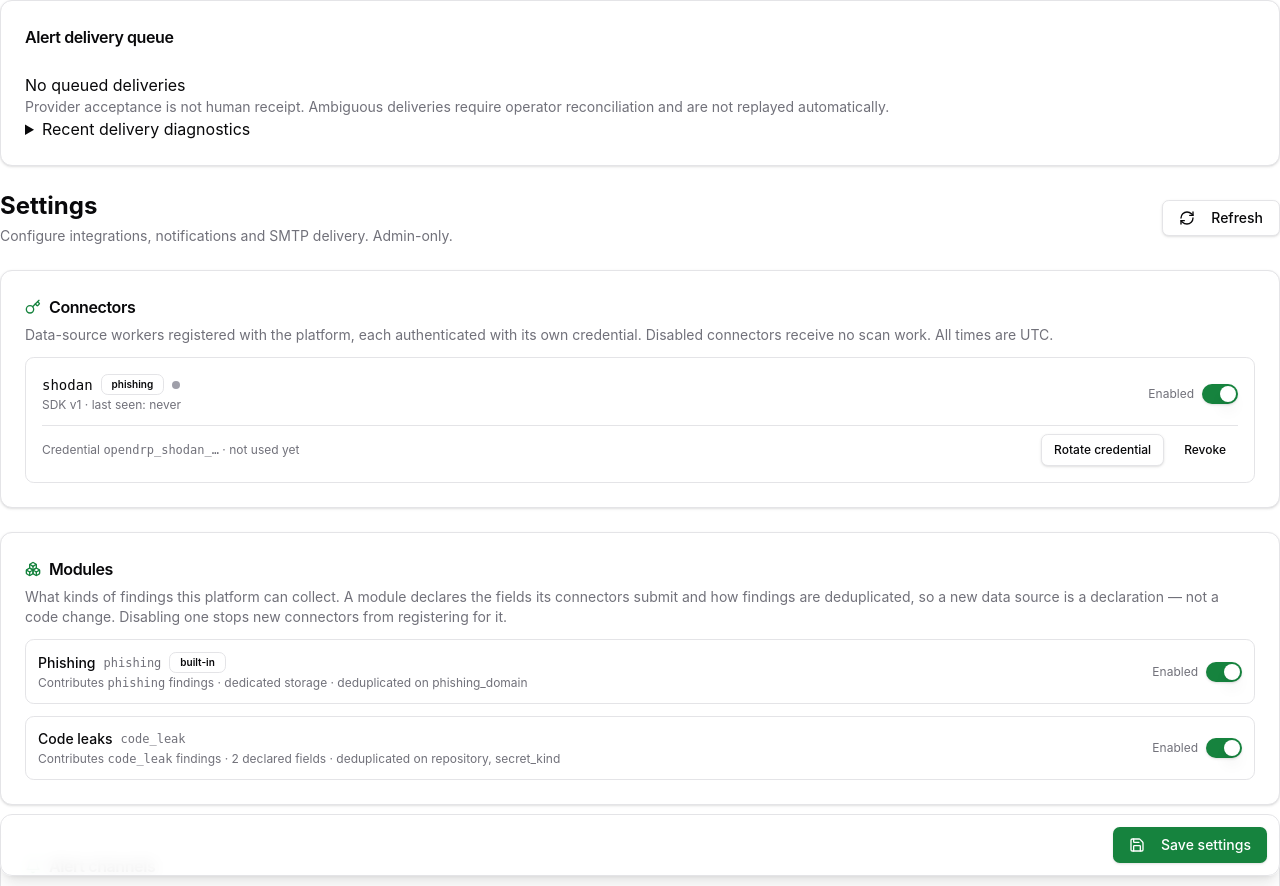
Test: SettingsPage › asks before revoking a connector credential, then keeps the connector
Click the button "Revoke" at (1205, 450), box [1172, 434, 1238, 466]
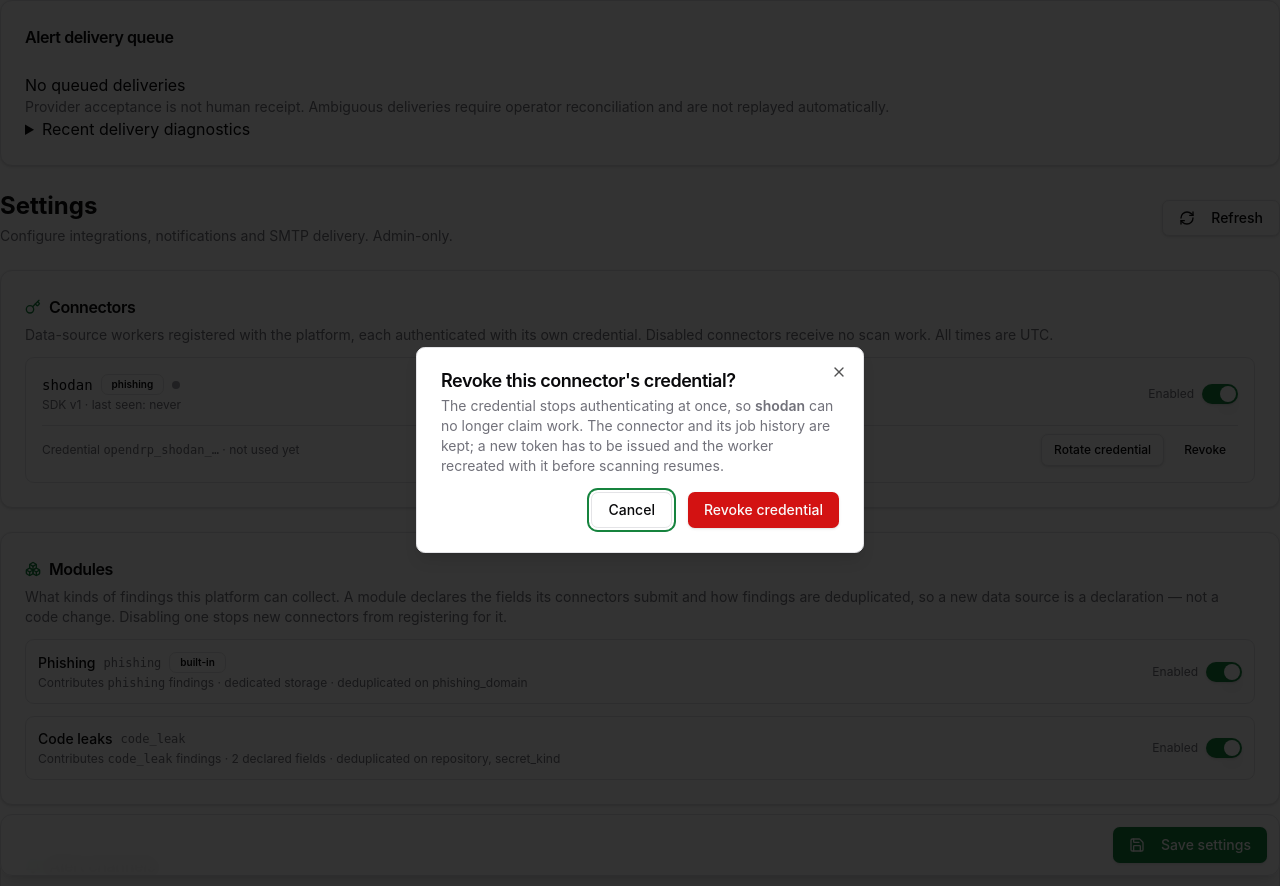
Now the text "can no longer claim work" is shown, box [441, 397, 833, 474]
Click the button "Revoke credential" at (763, 510), box [688, 492, 839, 528]
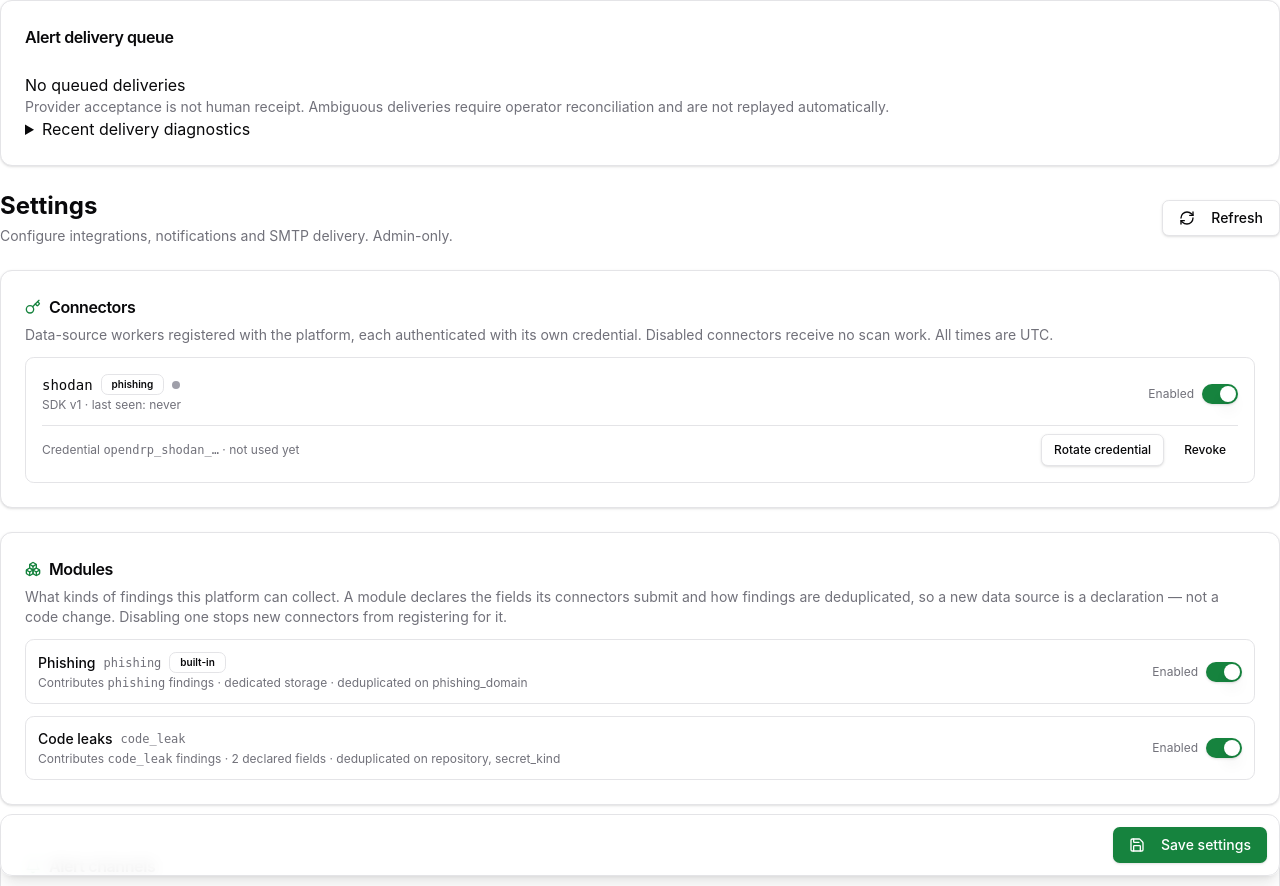
Now the dialog is gone
